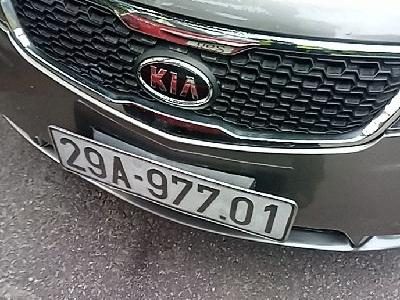lisence: (47, 124, 299, 244)
